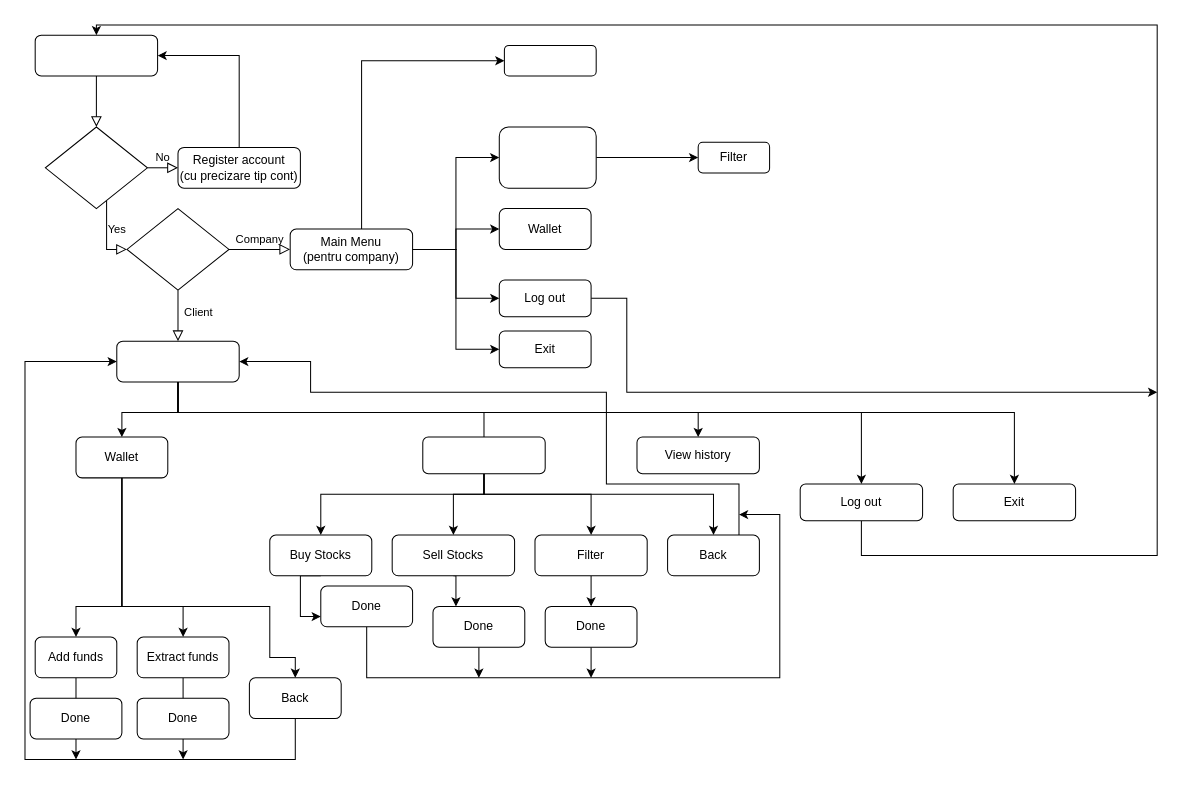
The diagram is 1183 pixels wide and 785 high, and some of its shapes have lost their labels. The shapes that lost their labels are listed below. From the top down, each one's centre as x and y in pixels, then its label:
At [96,55]: "Start".
At [549,60]: "List stocks".
At [95,167]: "Already have an account?".
At [547,157]: "View stocks (just view, can't trade)".
At [177,249]: "Log in".
At [177,361]: "Main Menu (pentru client)".
At [483,455]: "View stocks".
